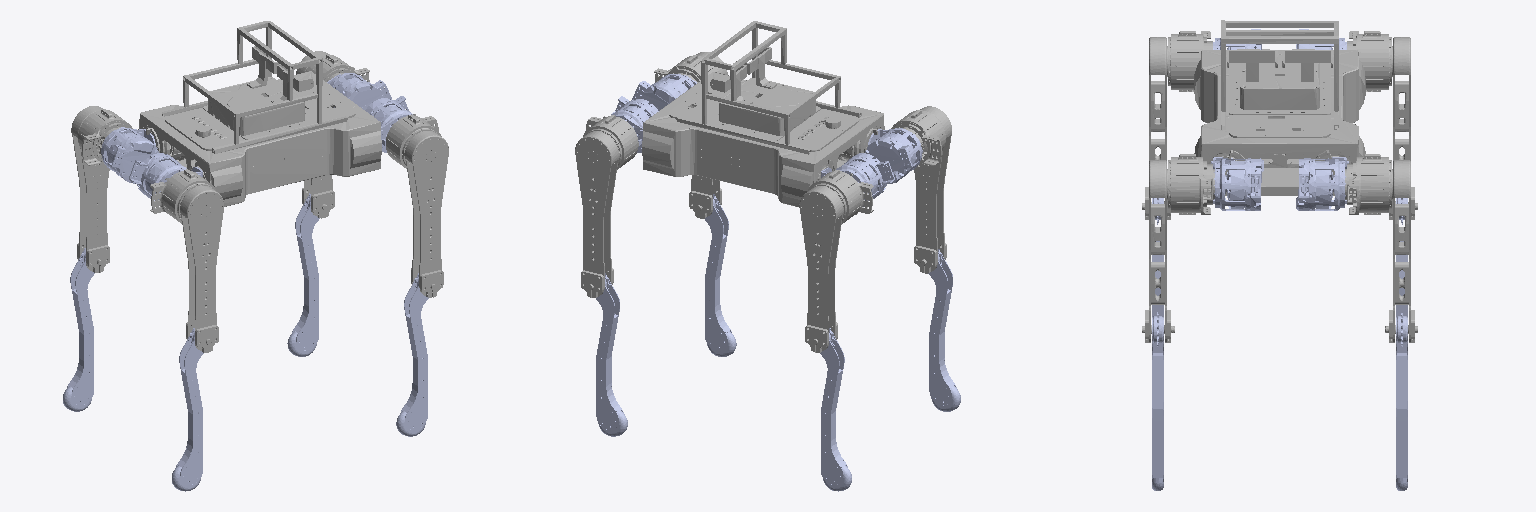
--- Facts derived from the render (not from the file) ---
The picture shows the robot from 3 angles, left to right: view 1: azimuth 30°, elevation 25°; view 2: azimuth 150°, elevation 25°; view 3: azimuth 270°, elevation 25°; orthographic projection.
Model stoch3 with 19 links and 18 joints (12 revolute, 6 fixed), rooted at world, posed all joints at 0.
Visible links, largest first — view 1: base_link, br_thigh_link, fr_thigh_link, bl_thigh_link, fr_shank_link, br_shank_link, fl_shank_link, bl_shank_link, bl_abd_link, fl_thigh_link, br_abd_link, fl_abd_link (+1 smaller); view 2: base_link, bl_thigh_link, fl_thigh_link, br_thigh_link, br_shank_link, fl_shank_link, fr_shank_link, bl_shank_link, br_abd_link, fr_thigh_link, bl_abd_link, fr_abd_link (+1 smaller); view 3: base_link, fr_thigh_link, fl_thigh_link, bl_thigh_link, br_thigh_link, fl_abd_link, fr_abd_link, fr_shank_link, fl_shank_link.
Link boxes in pixels (<box>): base_link: <box>138,21,381,206</box>; br_thigh_link: <box>150,169,224,352</box>; fr_thigh_link: <box>386,114,448,297</box>; bl_thigh_link: <box>71,106,132,272</box>; fr_shank_link: <box>396,273,428,436</box>; br_shank_link: <box>172,328,203,491</box>; fl_shank_link: <box>287,193,319,356</box>; bl_shank_link: <box>63,248,94,411</box>; bl_abd_link: <box>101,127,158,183</box>; fl_thigh_link: <box>296,51,369,218</box>; br_abd_link: <box>129,153,202,200</box>; fl_abd_link: <box>327,73,391,109</box>; base_link: <box>642,21,884,206</box>; bl_thigh_link: <box>799,170,873,352</box>; fl_thigh_link: <box>575,115,638,297</box>; br_thigh_link: <box>891,106,951,273</box>; br_shank_link: <box>928,249,960,411</box>; fl_shank_link: <box>596,273,627,436</box>; fr_shank_link: <box>705,194,736,356</box>; bl_shank_link: <box>820,328,851,491</box>; br_abd_link: <box>865,128,922,183</box>; fr_thigh_link: <box>654,52,727,218</box>; bl_abd_link: <box>821,153,894,206</box>; fr_abd_link: <box>632,74,696,110</box>; base_link: <box>1194,20,1365,195</box>; fr_thigh_link: <box>1142,154,1214,342</box>; fl_thigh_link: <box>1345,154,1417,342</box>; bl_thigh_link: <box>1347,31,1417,219</box>; br_thigh_link: <box>1142,31,1212,219</box>; fl_abd_link: <box>1296,157,1348,210</box>; fr_abd_link: <box>1211,157,1263,210</box>; fr_shank_link: <box>1152,312,1163,490</box>; fl_shank_link: <box>1396,312,1407,490</box>.
Bounding box of the posed robot: 0.6909 × 0.512 × 0.8564 m (x, y, z).
13 mesh visuals loaded from 13 distinct referenced files (13 binary STL).

The robot description file, URDF, robot "stoch3":
<?xml version="1.0" encoding="utf-8"?>
<!-- =================================================================================== -->
<!-- |    This document was autogenerated by xacro from stoch3.urdf.xacro              | -->
<!-- |    EDITING THIS FILE BY HAND IS NOT RECOMMENDED                                 | -->
<!-- =================================================================================== -->
<robot name="stoch3">
  <link name="world">
      </link>
  <joint name="fixed" type="fixed">
    <parent link="world"/>
    <child link="base_link"/>
  </joint>
  <link name="base_link">
    <inertial>
      <origin rpy="0 0 0" xyz="-0.00066643 -4.8401E-05 0.068162"/>
      <mass value="9.7565"/>
      <inertia ixx="0.028321" ixy="7.0431E-06" ixz="1.0437E-05" iyy="0.033624" iyz="-2.4398E-08" izz="0.053863"/>
    </inertial>
    <visual>
      <origin rpy="0 0 0" xyz="0 0 0"/>
      <geometry>
        <mesh filename="package://stoch3_description/meshes/base_link.STL"/>
      </geometry>
      <material name="">
        <color rgba="0.75294 0.75294 0.75294 1"/>
      </material>
    </visual>
    <collision>
      <origin rpy="0 0 0" xyz="0 0 0"/>
      <geometry>
        <mesh filename="package://stoch3_description/meshes/base_link.STL"/>
      </geometry>
    </collision>
  </link>
  <link name="fl_abd_link">
    <inertial>
      <origin rpy="0 0 0" xyz="0.061349 -0.019504 -7.6667E-06"/>
      <mass value="0.94517"/>
      <inertia ixx="0.00061416" ixy="5.7906E-07" ixz="-3.8412E-06" iyy="0.0010243" iyz="-1.6902E-06" izz="0.00060713"/>
    </inertial>
    <visual>
      <origin rpy="0 0 0" xyz="0 0 0"/>
      <geometry>
        <mesh filename="package://stoch3_description/meshes/fl_abd_link.STL"/>
      </geometry>
      <material name="">
        <color rgba="0.79216 0.81961 0.93333 1"/>
      </material>
    </visual>
    <collision>
      <origin rpy="0 0 0" xyz="0 0 0"/>
      <geometry>
        <mesh filename="package://stoch3_description/meshes/fl_abd_link.STL"/>
      </geometry>
    </collision>
  </link>
  <joint name="fl_abd_joint" type="revolute">
    <origin rpy="0 0 0" xyz="0.206917503877324 0.101500000000002 0.0540300000000024"/>
    <parent link="base_link"/>
    <child link="fl_abd_link"/>
    <axis xyz="1 0 0"/>
    <limit effort="100" lower="-1.5708" upper="1.5708" velocity="100"/>
  </joint>
  <link name="fl_thigh_link">
    <inertial>
      <origin rpy="0 0 0" xyz="0.0014376 0.077483 -0.055275"/>
      <mass value="2.4957"/>
      <inertia ixx="0.0049396" ixy="4.7834E-05" ixz="-3.2241E-06" iyy="0.0054131" iyz="-1.5857E-06" izz="0.0011512"/>
    </inertial>
    <visual>
      <origin rpy="0 0 0" xyz="0 0 0"/>
      <geometry>
        <mesh filename="package://stoch3_description/meshes/fl_thigh_link.STL"/>
      </geometry>
      <material name="">
        <color rgba="0.75294 0.75294 0.75294 1"/>
      </material>
    </visual>
    <collision>
      <origin rpy="0 0 0" xyz="0 0 0"/>
      <geometry>
        <mesh filename="package://stoch3_description/meshes/fl_thigh_link.STL"/>
      </geometry>
    </collision>
  </link>
  <joint name="fl_hip_joint" type="revolute">
    <origin rpy="0 -3.14584042145611E-05 0" xyz="0.06378709521538 0.0139999999999987 0"/>
    <parent link="fl_abd_link"/>
    <child link="fl_thigh_link"/>
    <axis xyz="0 1 0"/>
    <limit effort="100" lower="-1.57078" upper="3.14159" velocity="100"/>
  </joint>
  <link name="fl_shank_link">
    <inertial>
      <origin rpy="0 0 0" xyz="-0.014616 -6.6962E-07 -0.11828"/>
      <mass value="0.37918"/>
      <inertia ixx="0.0021646" ixy="5.617E-09" ixz="-4.4468E-05" iyy="0.0022225" iyz="3.9894E-08" izz="6.6686E-05"/>
    </inertial>
    <visual>
      <origin rpy="0 0 0" xyz="0 0 0"/>
      <geometry>
        <mesh filename="package://stoch3_description/meshes/fl_shank_link.STL"/>
      </geometry>
      <material name="">
        <color rgba="0.79216 0.81961 0.93333 1"/>
      </material>
    </visual>
    <collision>
      <origin rpy="0 0 0" xyz="0 0 0"/>
      <geometry>
        <mesh filename="package://stoch3_description/meshes/fl_shank_link.STL"/>
      </geometry>
    </collision>
  </link>
  <joint name="fl_knee_joint" type="revolute">
    <origin rpy="0 3.14584042149928E-05 0" xyz="0 0.111399999999998 -0.296999999853041"/>
    <parent link="fl_thigh_link"/>
    <child link="fl_shank_link"/>
    <axis xyz="0 1 0"/>
    <limit effort="100" lower="-3.14159" upper="0" velocity="100"/>
  </joint>
  <link name="fr_abd_link">
    <inertial>
      <origin rpy="0 0 0" xyz="0.06156 0.019504 -0.00021624"/>
      <mass value="0.94517"/>
      <inertia ixx="0.00061326" ixy="3.2241E-07" ixz="1.5152E-08" iyy="0.0010243" iyz="-3.8552E-06" izz="0.00060803"/>
    </inertial>
    <visual>
      <origin rpy="0 0 0" xyz="0 0 0"/>
      <geometry>
        <mesh filename="package://stoch3_description/meshes/fr_abd_link.STL"/>
      </geometry>
      <material name="">
        <color rgba="0.79216 0.81961 0.93333 1"/>
      </material>
    </visual>
    <collision>
      <origin rpy="0 0 0" xyz="0 0 0"/>
      <geometry>
        <mesh filename="package://stoch3_description/meshes/fr_abd_link.STL"/>
      </geometry>
    </collision>
  </link>
  <joint name="fr_abd_joint" type="revolute">
    <origin rpy="0 0 0" xyz="0.206925357517166 -0.101499999999999 0.0540300000000003"/>
    <parent link="base_link"/>
    <child link="fr_abd_link"/>
    <axis xyz="1 0 0"/>
    <limit effort="100" lower="-1.5708" upper="1.5708" velocity="100"/>
  </joint>
  <link name="fr_thigh_link">
    <inertial>
      <origin rpy="0 0 0" xyz="0.00144107858196152 -0.07748346487516 -0.0551703662273829"/>
      <mass value="2.49567510872212"/>
      <inertia ixx="0.00493964200419569" ixy="-4.78342957937469E-05" ixz="3.2241369041665E-06" iyy="0.00541305231980369" iyz="-1.61934782864799E-06" izz="0.00115115548345638"/>
    </inertial>
    <visual>
      <origin rpy="0 0 0" xyz="0 0 0"/>
      <geometry>
        <mesh filename="package://stoch3_description/meshes/fr_thigh_link.STL"/>
      </geometry>
      <material name="">
        <color rgba="0.752941176470588 0.752941176470588 0.752941176470588 1"/>
      </material>
    </visual>
    <collision>
      <origin rpy="0 0 0" xyz="0 0 0"/>
      <geometry>
        <mesh filename="package://stoch3_description/meshes/fr_thigh_link.STL"/>
      </geometry>
    </collision>
  </link>
  <joint name="fr_hip_joint" type="revolute">
    <origin rpy="0 3.145840420901E-05 0" xyz="0.06377924157554 -0.0139999999999988 0"/>
    <parent link="fr_abd_link"/>
    <child link="fr_thigh_link"/>
    <axis xyz="0 1 0"/>
    <limit effort="100" lower="-1.57078" upper="3.14159" velocity="100"/>
  </joint>
  <link name="fr_shank_link">
    <inertial>
      <origin rpy="0 0 0" xyz="-0.014616 -6.6962E-07 -0.11828"/>
      <mass value="0.37918"/>
      <inertia ixx="0.0021646" ixy="5.617E-09" ixz="-4.4468E-05" iyy="0.0022225" iyz="3.9894E-08" izz="6.6686E-05"/>
    </inertial>
    <visual>
      <origin rpy="0 0 0" xyz="0 0 0"/>
      <geometry>
        <mesh filename="package://stoch3_description/meshes/fr_shank_link.STL"/>
      </geometry>
      <material name="">
        <color rgba="0.79216 0.81961 0.93333 1"/>
      </material>
    </visual>
    <collision>
      <origin rpy="0 0 0" xyz="0 0 0"/>
      <geometry>
        <mesh filename="package://stoch3_description/meshes/fr_shank_link.STL"/>
      </geometry>
    </collision>
  </link>
  <joint name="fr_knee_joint" type="revolute">
    <origin rpy="0 -3.14584042085783E-05 0" xyz="0 -0.111599999999999 -0.29699999985303"/>
    <parent link="fr_thigh_link"/>
    <child link="fr_shank_link"/>
    <axis xyz="0 1 0"/>
    <limit effort="100" lower="-3.14159" upper="0" velocity="100"/>
  </joint>
  <link name="bl_abd_link">
    <inertial>
      <origin rpy="0 0 0" xyz="0.030793 -0.019504 -0.00042262"/>
      <mass value="0.94517"/>
      <inertia ixx="0.00061091" ixy="-9.6216E-07" ixz="-1.2691E-06" iyy="0.0010243" iyz="1.7068E-06" izz="0.00061038"/>
    </inertial>
    <visual>
      <origin rpy="0 0 0" xyz="0 0 0"/>
      <geometry>
        <mesh filename="package://stoch3_description/meshes/bl_abd_link.STL"/>
      </geometry>
      <material name="">
        <color rgba="0.79216 0.81961 0.93333 1"/>
      </material>
    </visual>
    <collision>
      <origin rpy="0 0 0" xyz="0 0 0"/>
      <geometry>
        <mesh filename="package://stoch3_description/meshes/bl_abd_link.STL"/>
      </geometry>
    </collision>
  </link>
  <joint name="bl_abd_joint" type="revolute">
    <origin rpy="0 0 0" xyz="-0.299402452130055 0.101499999999997 0.0540300000000009"/>
    <parent link="base_link"/>
    <child link="bl_abd_link"/>
    <axis xyz="1 0 0"/>
    <limit effort="100" lower="-1.5708" upper="1.5708" velocity="100"/>
  </joint>
  <link name="bl_thigh_link">
    <inertial>
      <origin rpy="0 0 0" xyz="-0.00144107858108192 0.0774834648849106 -0.0551703662338023"/>
      <mass value="2.49567510818258"/>
      <inertia ixx="0.00493964200383586" ixy="-4.78342957989956E-05" ixz="-3.22413680518202E-06" iyy="0.0054130523194199" iyz="1.61934780851157E-06" izz="0.00115115548343042"/>
    </inertial>
    <visual>
      <origin rpy="0 0 0" xyz="0 0 0"/>
      <geometry>
        <mesh filename="package://stoch3_description/meshes/bl_thigh_link.STL"/>
      </geometry>
      <material name="">
        <color rgba="0.752941176470588 0.752941176470588 0.752941176470588 1"/>
      </material>
    </visual>
    <collision>
      <origin rpy="0 0 0" xyz="0 0 0"/>
      <geometry>
        <mesh filename="package://stoch3_description/meshes/bl_thigh_link.STL"/>
      </geometry>
    </collision>
  </link>
  <joint name="bl_hip_joint" type="revolute">
    <origin rpy="0 -3.14584042145611E-05 0" xyz="0.0286978530373435 0.0139999999999997 0"/>
    <parent link="bl_abd_link"/>
    <child link="bl_thigh_link"/>
    <axis xyz="0 1 0"/>
    <limit effort="100" lower="-1.57078" upper="3.14159" velocity="100"/>
  </joint>
  <link name="bl_shank_link">
    <inertial>
      <origin rpy="0 0 0" xyz="-0.014616 -6.6962E-07 -0.11828"/>
      <mass value="0.37918"/>
      <inertia ixx="0.0021646" ixy="5.617E-09" ixz="-4.4468E-05" iyy="0.0022225" iyz="3.9894E-08" izz="6.6686E-05"/>
    </inertial>
    <visual>
      <origin rpy="0 0 0" xyz="0 0 0"/>
      <geometry>
        <mesh filename="package://stoch3_description/meshes/bl_shank_link.STL"/>
      </geometry>
      <material name="">
        <color rgba="0.79216 0.81961 0.93333 1"/>
      </material>
    </visual>
    <collision>
      <origin rpy="0 0 0" xyz="0 0 0"/>
      <geometry>
        <mesh filename="package://stoch3_description/meshes/bl_shank_link.STL"/>
      </geometry>
    </collision>
  </link>
  <joint name="bl_knee_joint" type="revolute">
    <origin rpy="0 3.14584042094417E-05 0" xyz="0 0.111599999999496 -0.29699999985304"/>
    <parent link="bl_thigh_link"/>
    <child link="bl_shank_link"/>
    <axis xyz="0 1 0"/>
    <limit effort="100" lower="-3.14159" upper="0" velocity="100"/>
  </joint>
  <link name="br_abd_link">
    <inertial>
      <origin rpy="0 0 0" xyz="0.031108 0.019504 -1.7708E-05"/>
      <mass value="0.94517"/>
      <inertia ixx="0.00061475" ixy="8.7419E-07" ixz="3.1106E-06" iyy="0.0010243" iyz="1.7938E-06" izz="0.00060654"/>
    </inertial>
    <visual>
      <origin rpy="0 0 0" xyz="0 0 0"/>
      <geometry>
        <mesh filename="package://stoch3_description/meshes/br_abd_link.STL"/>
      </geometry>
      <material name="">
        <color rgba="0.79216 0.81961 0.93333 1"/>
      </material>
    </visual>
    <collision>
      <origin rpy="0 0 0" xyz="0 0 0"/>
      <geometry>
        <mesh filename="package://stoch3_description/meshes/br_abd_link.STL"/>
      </geometry>
    </collision>
  </link>
  <joint name="br_abd_joint" type="revolute">
    <origin rpy="0 0 0" xyz="-0.299402452130055 -0.101500000000005 0.0540300000000005"/>
    <parent link="base_link"/>
    <child link="br_abd_link"/>
    <axis xyz="1 0 0"/>
    <limit effort="100" lower="-1.5708" upper="1.5708" velocity="100"/>
  </joint>
  <link name="br_thigh_link">
    <inertial>
      <origin rpy="0 0 0" xyz="-0.00150303818321485 -0.0774834645949825 -0.0552213173300917"/>
      <mass value="2.49567512655825"/>
      <inertia ixx="0.0049362160738861" ixy="4.96261951245898E-05" ixz="2.5269174510805E-06" iyy="0.00541305233737715" iyz="1.18125628096648E-07" izz="0.00115458143484649"/>
    </inertial>
    <visual>
      <origin rpy="0 0 0" xyz="0 0 0"/>
      <geometry>
        <mesh filename="package://stoch3_description/meshes/br_thigh_link.STL"/>
      </geometry>
      <material name="">
        <color rgba="0.752941176470588 0.752941176470588 0.752941176470588 1"/>
      </material>
    </visual>
    <collision>
      <origin rpy="0 0 0" xyz="0 0 0"/>
      <geometry>
        <mesh filename="package://stoch3_description/meshes/br_thigh_link.STL"/>
      </geometry>
    </collision>
  </link>
  <joint name="br_hip_joint" type="revolute">
    <origin rpy="0 3.14584042201122E-05 0" xyz="0.0286978530373517 -0.0139999999999956 0"/>
    <parent link="br_abd_link"/>
    <child link="br_thigh_link"/>
    <axis xyz="0 1 0"/>
    <limit effort="100" lower="-1.57078" upper="3.14159" velocity="100"/>
  </joint>
  <link name="br_shank_link">
    <inertial>
      <origin rpy="0 0 0" xyz="-0.014616 -6.6962E-07 -0.11828"/>
      <mass value="0.37918"/>
      <inertia ixx="0.0021646" ixy="5.617E-09" ixz="-4.4468E-05" iyy="0.0022225" iyz="3.9894E-08" izz="6.6686E-05"/>
    </inertial>
    <visual>
      <origin rpy="0 0 0" xyz="0 0 0"/>
      <geometry>
        <mesh filename="package://stoch3_description/meshes/br_shank_link.STL"/>
      </geometry>
      <material name="">
        <color rgba="0.79216 0.81961 0.93333 1"/>
      </material>
    </visual>
    <collision>
      <origin rpy="0 0 0" xyz="0 0 0"/>
      <geometry>
        <mesh filename="package://stoch3_description/meshes/br_shank_link.STL"/>
      </geometry>
    </collision>
  </link>
  <joint name="br_knee_joint" type="revolute">
    <origin rpy="0 -3.14584042141294E-05 0" xyz="0 -0.111600000000005 -0.296999999853014"/>
    <parent link="br_thigh_link"/>
    <child link="br_shank_link"/>
    <axis xyz="0 1 0"/>
    <limit effort="100" lower="-3.14159" upper="0" velocity="100"/>
  </joint>
  <link name="fl_foot_link"/>
  <joint name="fl_ankle_joint" type="fixed">
    <parent link="fl_shank_link"/>
    <child link="fl_foot_link"/>
    <origin rpy="0 0 0" xyz="0 0 -0.3"/>
  </joint>
  <link name="fr_foot_link"/>
  <joint name="fr_ankle_joint" type="fixed">
    <parent link="fr_shank_link"/>
    <child link="fr_foot_link"/>
    <origin rpy="0 0 0" xyz="0 0 -0.3"/>
  </joint>
  <link name="bl_foot_link"/>
  <joint name="bl_ankle_joint" type="fixed">
    <parent link="bl_shank_link"/>
    <child link="bl_foot_link"/>
    <origin rpy="0 0 0" xyz="0 0 -0.3"/>
  </joint>
  <link name="br_foot_link"/>
  <joint name="br_ankle_joint" type="fixed">
    <parent link="br_shank_link"/>
    <child link="br_foot_link"/>
    <origin rpy="0 0 0" xyz="0 0 -0.3"/>
  </joint>
  <transmission name="fl_abd_trans">
    <type>transmission_interface/SimpleTransmission</type>
    <joint name="fl_abd_joint">
      <hardwareInterface>hardware_interface/PosVelEffJointInterface</hardwareInterface>
    </joint>
    <actuator name="fl_abd_motor">
      <mechanicalReduction>1</mechanicalReduction>
    </actuator>
  </transmission>
  <transmission name="fl_hip_trans">
    <type>transmission_interface/SimpleTransmission</type>
    <joint name="fl_hip_joint">
      <hardwareInterface>hardware_interface/PosVelEffJointInterface</hardwareInterface>
    </joint>
    <actuator name="fl_hip_motor">
      <mechanicalReduction>1</mechanicalReduction>
    </actuator>
  </transmission>
  <transmission name="fl_knee_trans">
    <type>transmission_interface/SimpleTransmission</type>
    <joint name="fl_knee_joint">
      <hardwareInterface>hardware_interface/PosVelEffJointInterface</hardwareInterface>
    </joint>
    <actuator name="fl_knee_motor">
      <mechanicalReduction>1</mechanicalReduction>
    </actuator>
  </transmission>
  <transmission name="bl_abd_trans">
    <type>transmission_interface/SimpleTransmission</type>
    <joint name="bl_abd_joint">
      <hardwareInterface>hardware_interface/PosVelEffJointInterface</hardwareInterface>
    </joint>
    <actuator name="bl_abd_motor">
      <mechanicalReduction>1</mechanicalReduction>
    </actuator>
  </transmission>
  <transmission name="bl_hip_trans">
    <type>transmission_interface/SimpleTransmission</type>
    <joint name="bl_hip_joint">
      <hardwareInterface>hardware_interface/PosVelEffJointInterface</hardwareInterface>
    </joint>
    <actuator name="bl_hip_motor">
      <mechanicalReduction>1</mechanicalReduction>
    </actuator>
  </transmission>
  <transmission name="bl_knee_trans">
    <type>transmission_interface/SimpleTransmission</type>
    <joint name="bl_knee_joint">
      <hardwareInterface>hardware_interface/PosVelEffJointInterface</hardwareInterface>
    </joint>
    <actuator name="bl_knee_motor">
      <mechanicalReduction>1</mechanicalReduction>
    </actuator>
  </transmission>
  <transmission name="fr_abd_trans">
    <type>transmission_interface/SimpleTransmission</type>
    <joint name="fr_abd_joint">
      <hardwareInterface>hardware_interface/PosVelEffJointInterface</hardwareInterface>
    </joint>
    <actuator name="fr_abd_motor">
      <mechanicalReduction>1</mechanicalReduction>
    </actuator>
  </transmission>
  <transmission name="fr_hip_trans">
    <type>transmission_interface/SimpleTransmission</type>
    <joint name="fr_hip_joint">
      <hardwareInterface>hardware_interface/PosVelEffJointInterface</hardwareInterface>
    </joint>
    <actuator name="fr_hip_motor">
      <mechanicalReduction>1</mechanicalReduction>
    </actuator>
  </transmission>
  <transmission name="fr_knee_trans">
    <type>transmission_interface/SimpleTransmission</type>
    <joint name="fr_knee_joint">
      <hardwareInterface>hardware_interface/PosVelEffJointInterface</hardwareInterface>
    </joint>
    <actuator name="fr_knee_motor">
      <mechanicalReduction>1</mechanicalReduction>
    </actuator>
  </transmission>
  <transmission name="br_abd_trans">
    <type>transmission_interface/SimpleTransmission</type>
    <joint name="br_abd_joint">
      <hardwareInterface>hardware_interface/PosVelEffJointInterface</hardwareInterface>
    </joint>
    <actuator name="br_abd_motor">
      <mechanicalReduction>1</mechanicalReduction>
    </actuator>
  </transmission>
  <transmission name="br_hip_trans">
    <type>transmission_interface/SimpleTransmission</type>
    <joint name="br_hip_joint">
      <hardwareInterface>hardware_interface/PosVelEffJointInterface</hardwareInterface>
    </joint>
    <actuator name="br_hip_motor">
      <mechanicalReduction>1</mechanicalReduction>
    </actuator>
  </transmission>
  <transmission name="br_knee_trans">
    <type>transmission_interface/SimpleTransmission</type>
    <joint name="br_knee_joint">
      <hardwareInterface>hardware_interface/PosVelEffJointInterface</hardwareInterface>
    </joint>
    <actuator name="br_knee_motor">
      <mechanicalReduction>1</mechanicalReduction>
    </actuator>
  </transmission>
  <gazebo reference="base_link_link">
    <material>Gazebo/White</material>
    <kp>10000000.0</kp>
    <kd>1.0</kd>
    <mu1>4.0</mu1>
    <mu2>4.0</mu2>
    <maxVel>0.0</maxVel>
    <minDepth>0.001</minDepth>
  </gazebo>
  <gazebo reference="fl_abd_link">
    <material>Gazebo/Grey</material>
    <kp>10000000.0</kp>
    <kd>1.0</kd>
    <mu1>4.0</mu1>
    <mu2>4.0</mu2>
    <maxVel>0.0</maxVel>
    <minDepth>0.001</minDepth>
  </gazebo>
  <gazebo reference="bl_abd_link">
    <material>Gazebo/Grey</material>
    <kp>10000000.0</kp>
    <kd>1.0</kd>
    <mu1>4.0</mu1>
    <mu2>4.0</mu2>
    <maxVel>0.0</maxVel>
    <minDepth>0.001</minDepth>
  </gazebo>
  <gazebo reference="fr_abd_link">
    <material>Gazebo/Grey</material>
    <kp>10000000.0</kp>
    <kd>1.0</kd>
    <mu1>4.0</mu1>
    <mu2>4.0</mu2>
    <maxVel>0.0</maxVel>
    <minDepth>0.001</minDepth>
  </gazebo>
  <gazebo reference="br_abd_link">
    <material>Gazebo/Grey</material>
    <kp>10000000.0</kp>
    <kd>1.0</kd>
    <mu1>4.0</mu1>
    <mu2>4.0</mu2>
    <maxVel>0.0</maxVel>
    <minDepth>0.001</minDepth>
  </gazebo>
  <gazebo reference="fl_thigh_link">
    <material>Gazebo/DarkGrey</material>
    <kp>10000000.0</kp>
    <kd>1.0</kd>
    <mu1>4.0</mu1>
    <mu2>4.0</mu2>
    <maxVel>0.0</maxVel>
    <minDepth>0.001</minDepth>
  </gazebo>
  <gazebo reference="bl_thigh_link">
    <material>Gazebo/DarkGrey</material>
    <kp>10000000.0</kp>
    <kd>1.0</kd>
    <mu1>4.0</mu1>
    <mu2>4.0</mu2>
    <maxVel>0.0</maxVel>
    <minDepth>0.001</minDepth>
  </gazebo>
  <gazebo reference="fr_thigh_link">
    <material>Gazebo/DarkGrey</material>
    <kp>10000000.0</kp>
    <kd>1.0</kd>
    <mu1>4.0</mu1>
    <mu2>4.0</mu2>
    <maxVel>0.0</maxVel>
    <minDepth>0.001</minDepth>
  </gazebo>
  <gazebo reference="br_thigh_link">
    <material>Gazebo/DarkGrey</material>
    <kp>10000000.0</kp>
    <kd>1.0</kd>
    <mu1>4.0</mu1>
    <mu2>4.0</mu2>
    <maxVel>0.0</maxVel>
    <minDepth>0.001</minDepth>
  </gazebo>
  <gazebo reference="fl_shank_link">
    <material>Gazebo/Grey</material>
    <kp>10000000.0</kp>
    <kd>1.0</kd>
    <mu1>4.0</mu1>
    <mu2>4.0</mu2>
    <maxVel>0.0</maxVel>
    <minDepth>0.001</minDepth>
  </gazebo>
  <gazebo reference="bl_shank_link">
    <material>Gazebo/Grey</material>
    <kp>10000000.0</kp>
    <kd>1.0</kd>
    <mu1>4.0</mu1>
    <mu2>4.0</mu2>
    <maxVel>0.0</maxVel>
    <minDepth>0.001</minDepth>
  </gazebo>
  <gazebo reference="fr_shank_link">
    <material>Gazebo/Grey</material>
    <kp>10000000.0</kp>
    <kd>1.0</kd>
    <mu1>4.0</mu1>
    <mu2>4.0</mu2>
    <maxVel>0.0</maxVel>
    <minDepth>0.001</minDepth>
  </gazebo>
  <gazebo reference="br_shank_link">
    <material>Gazebo/Grey</material>
    <kp>10000000.0</kp>
    <kd>1.0</kd>
    <mu1>4.0</mu1>
    <mu2>4.0</mu2>
    <maxVel>0.0</maxVel>
    <minDepth>0.001</minDepth>
  </gazebo>
  <!-- Enable the Joint Control -->
  <gazebo>
    <plugin filename="libgazebo_ros_control.so" name="gazebo_ros_control">
      <legacyModeNS>true</legacyModeNS>
      <robotNamespace>stoch3</robotNamespace>
      <robotSimType>stoch3_gazebo/Stoch3RobotHWSim</robotSimType>
    </plugin>
  </gazebo>
  <gazebo>
    <self_collide>1</self_collide>
  </gazebo>
  <!--
        <gazebo>
            <plugin filename="libgazebo_ros_p3d.so" name="p3d_base_controller">
                <alwaysOn>true</alwaysOn>
                <updateRate>10.0</updateRate>
                <bodyName>base_link</bodyName>
                <topicName>odom/ground_truth</topicName>
                <gaussianNoise>0.01</gaussianNoise>
                <frameName>world</frameName>
                <xyzOffsets>0 0 0</xyzOffsets>
                <rpyOffsets>0 0 0</rpyOffsets>
            </plugin>
        </gazebo>
        -->
  <link name="imu_link_1">
    <inertial>
      <mass value="0.001"/>
      <origin rpy="0 0 0" xyz="0 0 0"/>
      <inertia ixx="1e-09" ixy="0.0" ixz="0.0" iyy="1e-09" iyz="0.0" izz="1e-09"/>
    </inertial>
    <visual>
      <origin rpy="0 0 0" xyz="0 0 0"/>
      <geometry>
        <box size="0.005 0.005 0.005"/>
      </geometry>
      <material name="">
        <color rgba="0.6 0.8 0.1 1"/>
      </material>
    </visual>
  </link>
  <joint name="imu_joint_1" type="fixed">
    <parent link="base_link"/>
    <child link="imu_link_1"/>
    <origin rpy="0.0 0.0 0.0" xyz="0.0 0.0 0.005"/>
  </joint>
  <gazebo>
    <plugin filename="libhector_gazebo_ros_imu.so" name="imu_1_controller">
      <updateRate>100</updateRate>
      <bodyName>imu_link_1</bodyName>
      <topicName>sensors/imu_1</topicName>
      <accelDrift>0.005 0.005 0.005</accelDrift>
      <accelGaussianNoise>0.005 0.005 0.005</accelGaussianNoise>
      <rateDrift>0.005 0.005 0.005 </rateDrift>
      <rateGaussianNoise>0.005 0.005 0.005</rateGaussianNoise>
      <headingDrift>0.005</headingDrift>
      <headingGaussianNoise>0.005</headingGaussianNoise>
    </plugin>
    <material>Gazebo/Yellow</material>
  </gazebo>
</robot>
